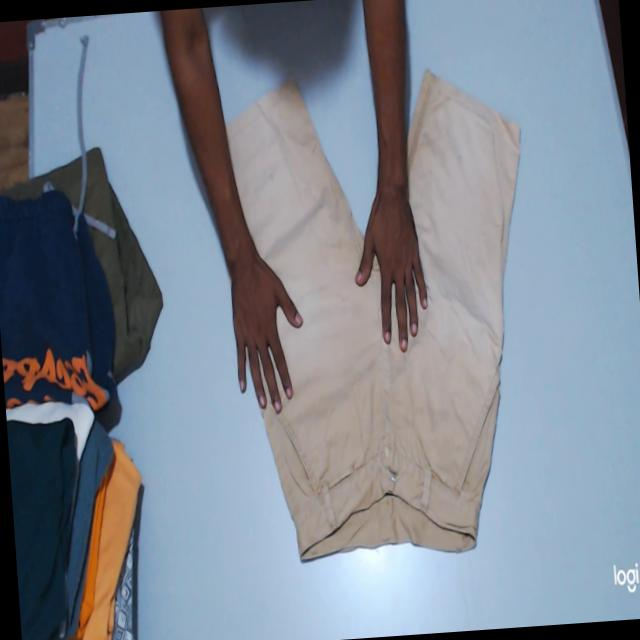new-garment: (227, 70, 519, 558)
